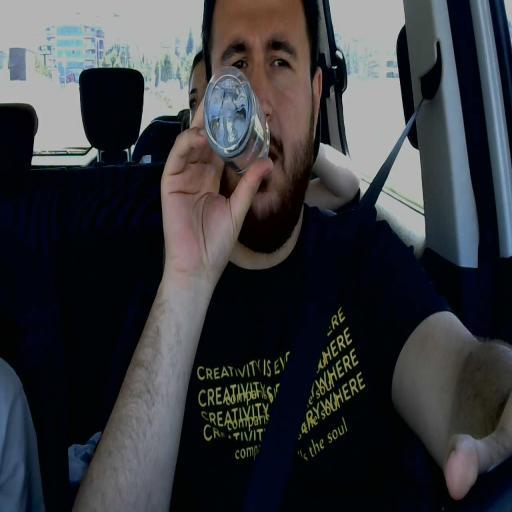Drinking: (161, 0, 323, 252)
